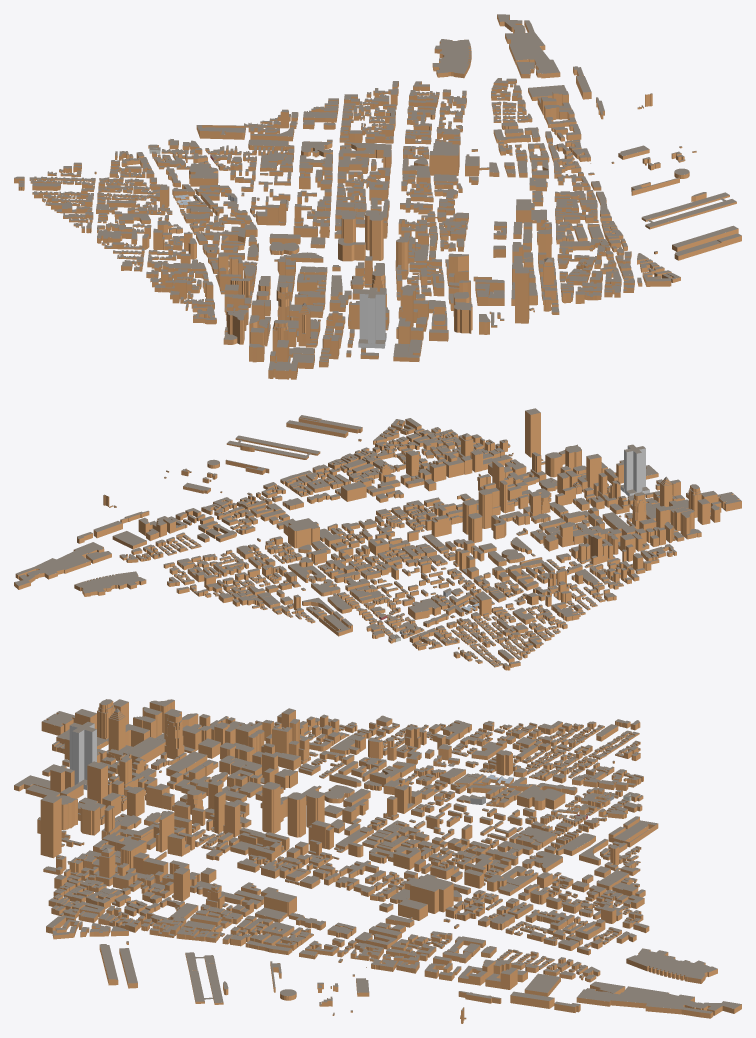
The model's file is new_buildings-transformed.glb.
3 views of the same model, one above another, from view 1: azimuth 30°, elevation 25°; view 2: azimuth 150°, elevation 25°; view 3: azimuth 270°, elevation 25° (orthographic). The views are drawn at different scales.
Visible parts, largest first — view 1: map_6.osm_buildings; view 2: map_6.osm_buildings; view 3: map_6.osm_buildings.
Part boxes in pixels (left/top/right/bottom): map_6.osm_buildings: left=14, top=14, right=741, bottom=379; map_6.osm_buildings: left=14, top=408, right=741, bottom=670; map_6.osm_buildings: left=14, top=699, right=741, bottom=1023.
Bounding box in the file's own units: 2248 × 190 × 2278.
